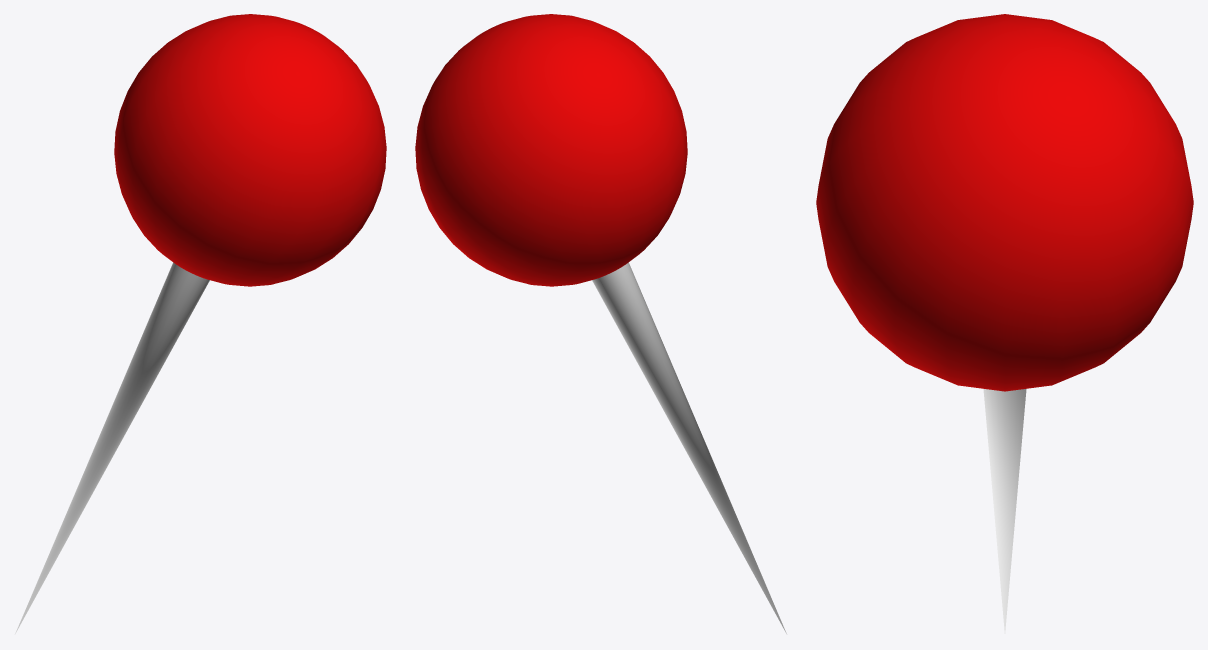
File: Pin.fbx
3 views of the same model, side by side, from view 1: azimuth 30°, elevation 25°; view 2: azimuth 150°, elevation 25°; view 3: azimuth 270°, elevation 25° (orthographic). The views are drawn at different scales.
Visible parts, largest first — view 1: pCone2; view 2: pCone2; view 3: pCone2.
Part boxes in pixels (x1=…): pCone2: x1=15, y1=14, x2=386, y2=633; pCone2: x1=415, y1=14, x2=786, y2=633; pCone2: x1=816, y1=14, x2=1193, y2=633.
Bounding box in the file's own units: 1.5 × 2.23 × 1.
